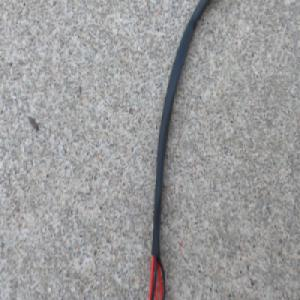Wire: (143, 0, 217, 300)
